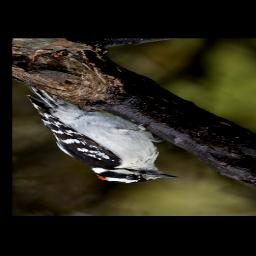Woodpecker: (27, 84, 180, 183)
